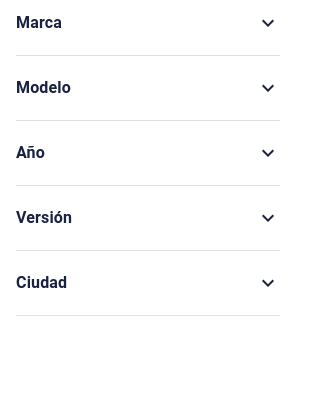
Scenario: MenuAside › should render the version options
Check: the text "Versión" is shown, box [16,206,72,230]
Click the button "Versión": point(44, 218) [16,186,280,250]
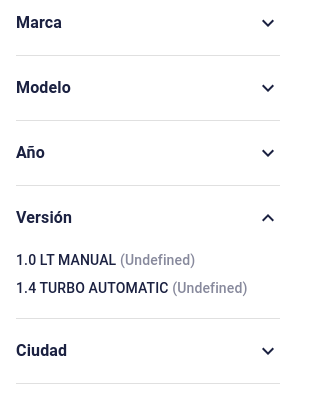
Check: the text "1.0 LT MANUAL (undefined)" is shown, box [16,250,195,270]
Check: the text "1.4 TURBO AUTOMATIC (undefined)" is shown, box [16,278,248,298]
